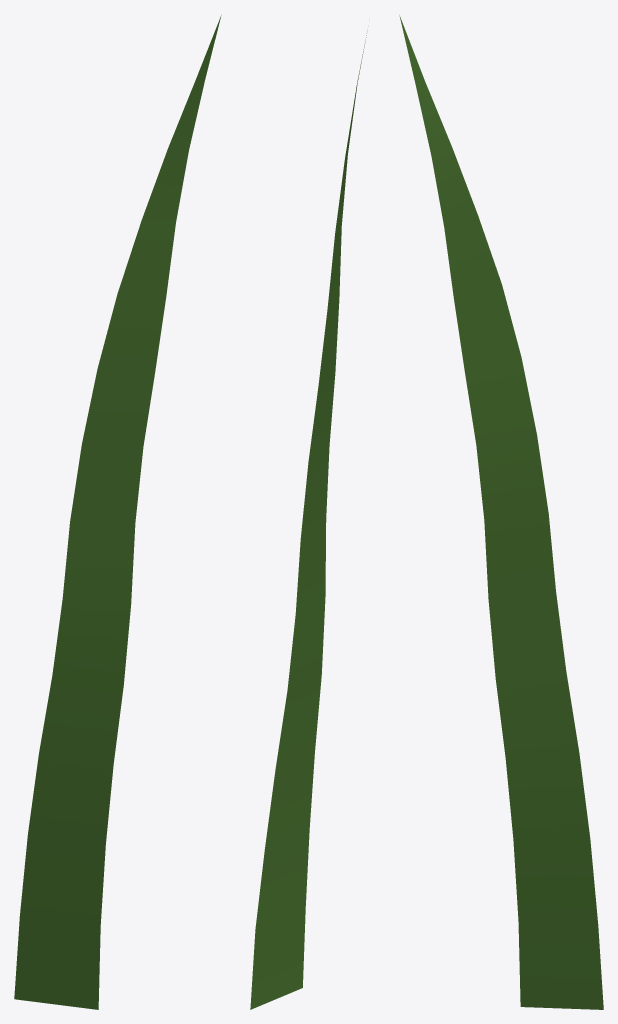
The model's file is plant_swamp_kelp_giant_C_solo_F.fbx.
The picture shows the model from 3 angles, left to right: view 1: azimuth 90°, elevation 25°; view 2: azimuth 150°, elevation 25°; view 3: azimuth 270°, elevation 25°; orthographic projection. The views are drawn at different scales.
Parts seen in each view (by area): view 1: plant_swamp_kelp_giant_C_solo_F; view 2: plant_swamp_kelp_giant_C_solo_F; view 3: plant_swamp_kelp_giant_C_solo_F.
Part boxes in pixels (x1,y1,x2,y2): plant_swamp_kelp_giant_C_solo_F: (14, 15, 221, 1009); plant_swamp_kelp_giant_C_solo_F: (250, 30, 367, 1009); plant_swamp_kelp_giant_C_solo_F: (399, 15, 603, 1009).
Bounding box in the file's own units: 8.46 × 258 × 48.5.
